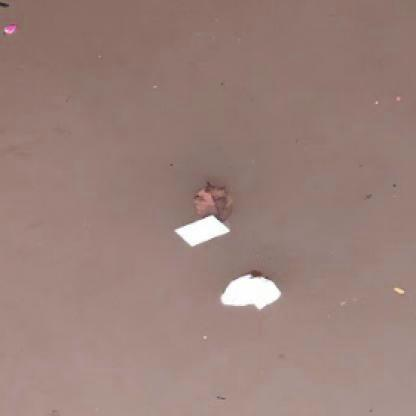Trash: (217, 270, 284, 312), (172, 210, 231, 249)
